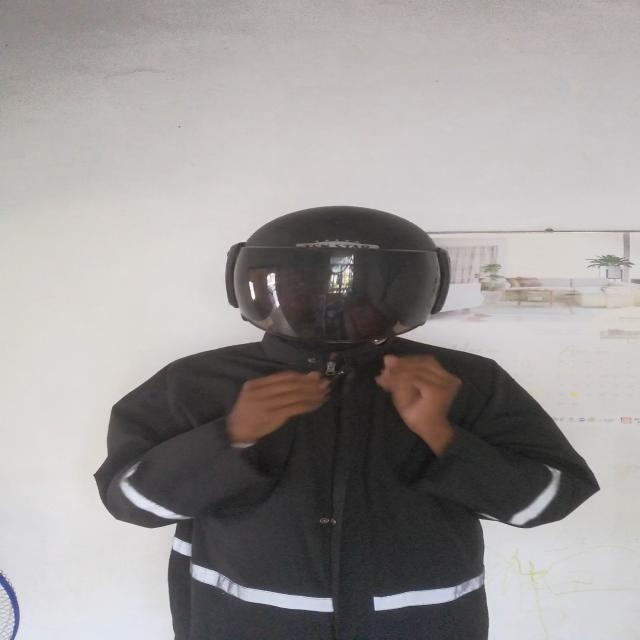Helmet_Wearer: (213, 202, 474, 358)
Jacket_Wearer: (92, 305, 613, 640)
Person: (109, 206, 600, 640)
